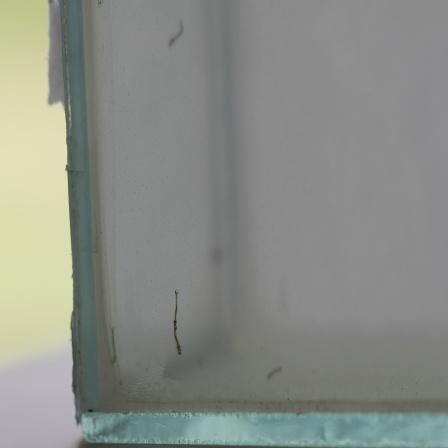Jentik-Nyamuk: (168, 287, 188, 359)
